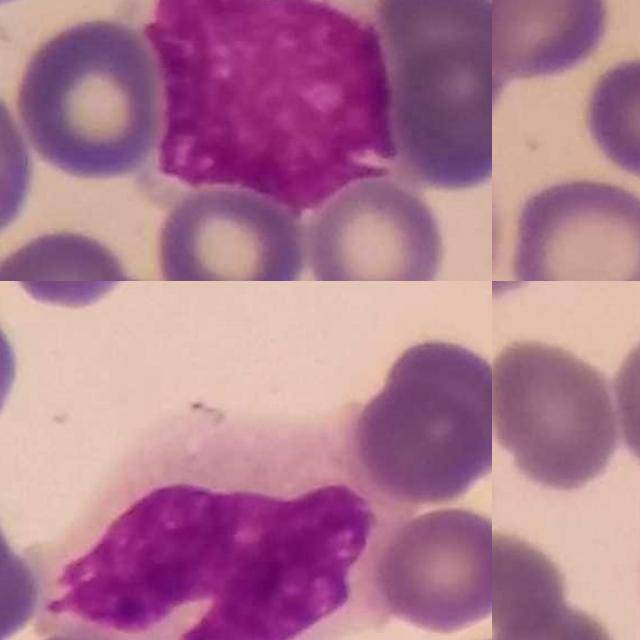Monocyte: (40, 421, 383, 640), (131, 0, 405, 212)
